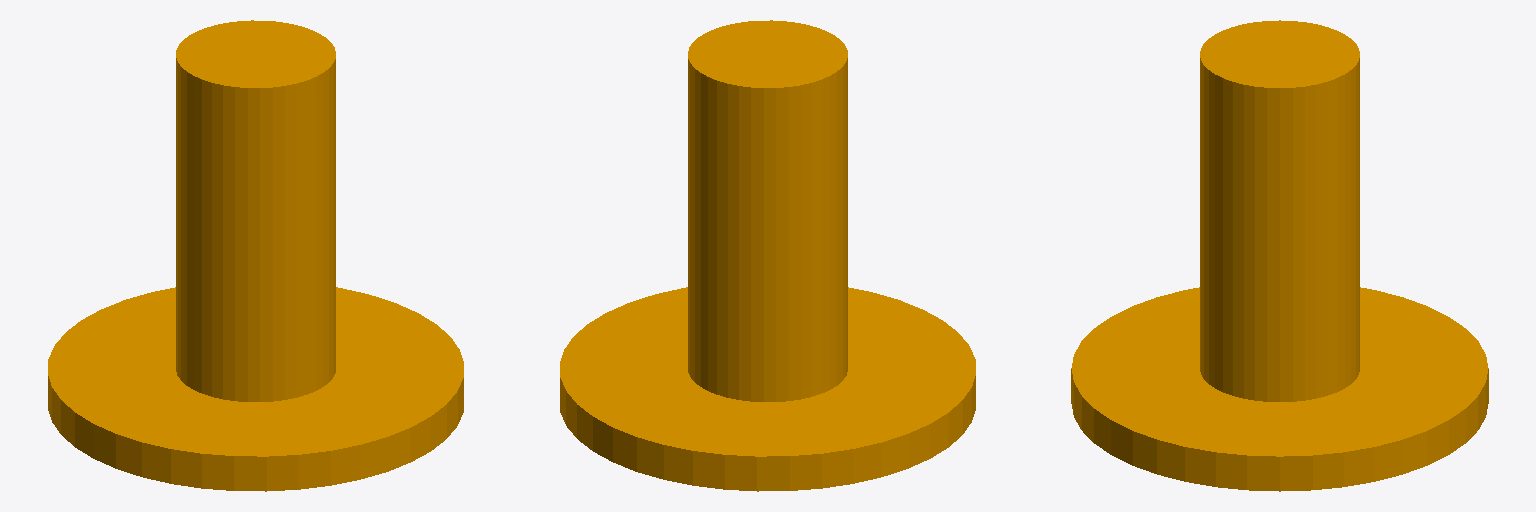
The robot description file, URDF, robot "bottle_pickup_support":
<?xml version='1.0' encoding='utf-8'?>
<robot name="bottle_pickup_support">
  <link name="body">
    <inertial>
      <origin xyz="0.19999999999999996 -7.179287314229786e-19 0.03821957040572792" />
      <mass value="2" />
      <inertia ixx="0.003879425642356209" iyy="0.0038794256423562248" izz="0.002068504749889774" ixy="-7.179287314229785e-19" ixz="-3.279015330688037e-18" iyz="-5.487785539383093e-20" />
    </inertial>
    <collision>
      <geometry>
        <mesh filename="part_00.obj" />
      </geometry>
    </collision>
    <collision>
      <geometry>
        <mesh filename="part_01.obj" />
      </geometry>
    </collision>
    <visual>
      <geometry>
        <mesh filename="visual.obj" />
      </geometry>
    </visual>
  </link>
</robot>

--- What the picture shows (computed from the rendered views, not written in the file) ---
3 views of the same robot in one strip: view 1: azimuth 30°, elevation 25°; view 2: azimuth 150°, elevation 25°; view 3: azimuth 270°, elevation 25° (orthographic).
Robot: bottle_pickup_support — 1 links, 0 joints (none); root link body; default pose: all joints at 0.
Visible links, largest first — view 1: body; view 2: body; view 3: body.
Boxes of the visible links, x1,y1,x2,y2 form: body: (48, 20, 463, 491); body: (560, 20, 975, 491); body: (1071, 20, 1488, 491).
Bounding box of the posed robot: 0.13 × 0.13 × 0.12 m (x, y, z).
1 mesh visuals loaded from 1 distinct referenced files (1 OBJ).
